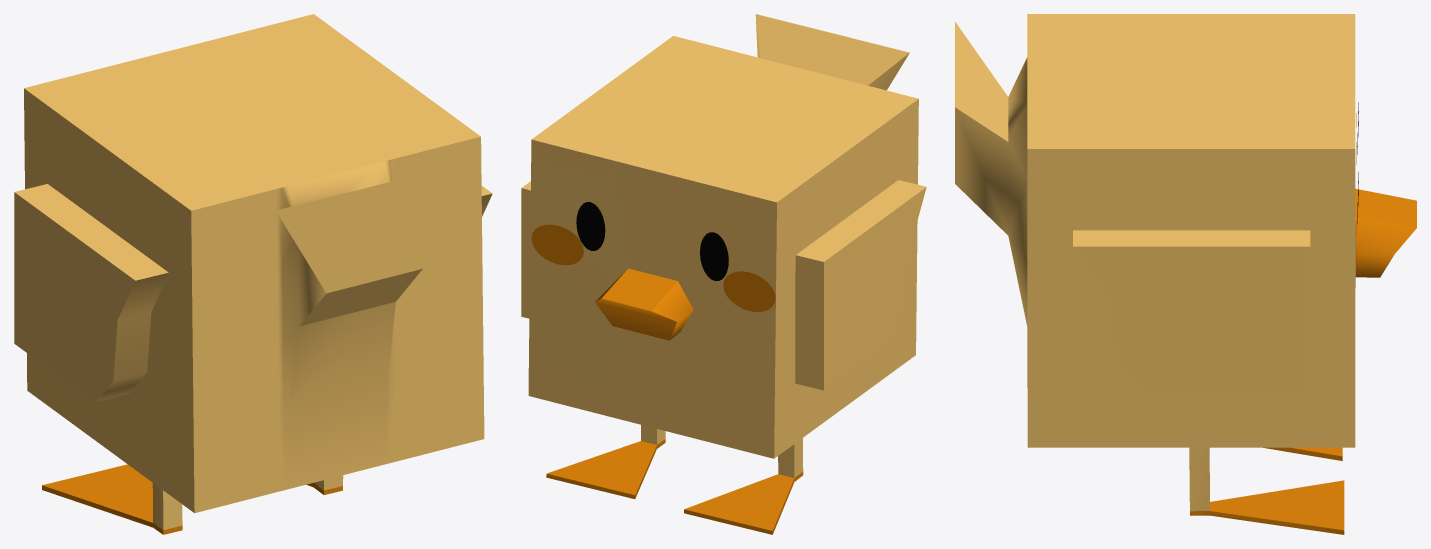
The model's file is Duckie Still.fbx.
The picture shows the model from 3 angles, left to right: view 1: azimuth 30°, elevation 25°; view 2: azimuth 150°, elevation 25°; view 3: azimuth 270°, elevation 25°; orthographic projection. The views are drawn at different scales.
Visible parts, largest first — view 1: DUCK_BODY, L_Wing, L_Leg; view 2: DUCK_BODY, L_Wing, L_Leg, R_Leg, R_Wing; view 3: DUCK_BODY, R_Wing, R_Leg, L_Leg.
Part boxes in pixels (bbox=[...]): DUCK_BODY: bbox=[24, 14, 484, 513]; L_Wing: bbox=[14, 184, 168, 401]; L_Leg: bbox=[42, 464, 182, 534]; DUCK_BODY: bbox=[528, 14, 918, 458]; L_Wing: bbox=[795, 180, 926, 390]; L_Leg: bbox=[684, 438, 803, 534]; R_Leg: bbox=[546, 425, 665, 498]; R_Wing: bbox=[521, 181, 530, 318]; DUCK_BODY: bbox=[955, 14, 1416, 447]; R_Wing: bbox=[1073, 230, 1310, 394]; R_Leg: bbox=[1189, 447, 1344, 534]; L_Leg: bbox=[1263, 447, 1342, 460].
Bounding box in the file's own units: 123 × 137 × 141.
